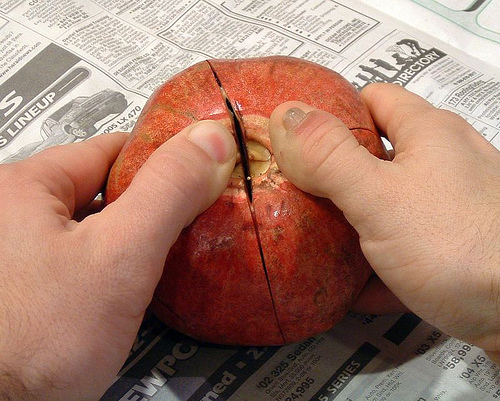pomogranate: (104, 55, 388, 347)
